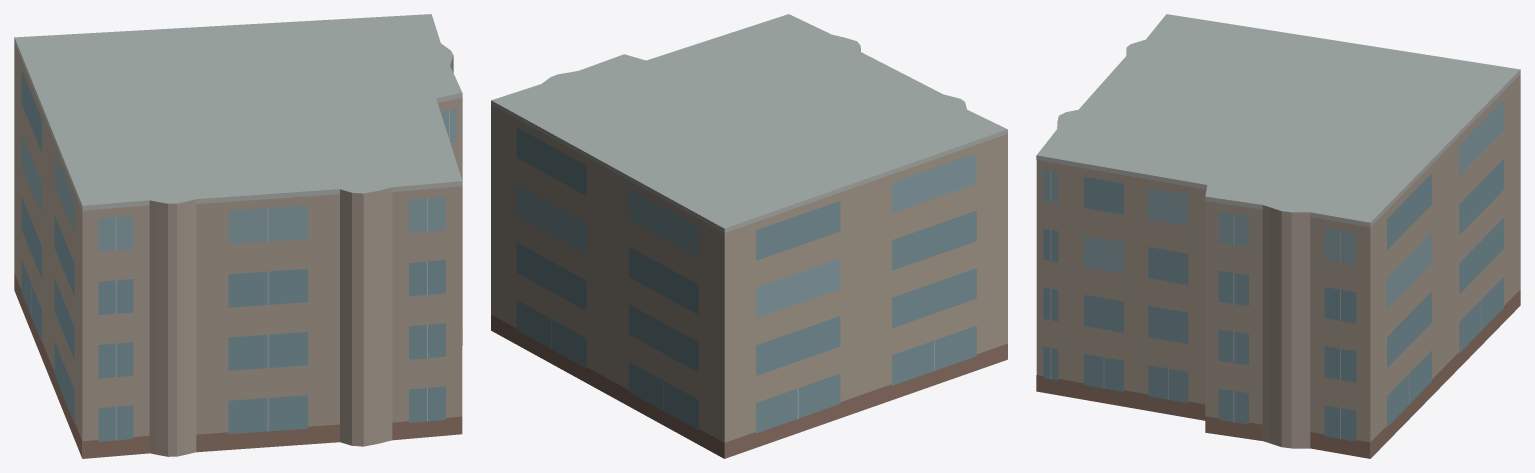
Rendered from survey-upis-32808010.glb.
3 renders of one model, left to right at view 1: azimuth 30°, elevation 25°; view 2: azimuth 150°, elevation 25°; view 3: azimuth 270°, elevation 25°, orthographic. The views are drawn at different scales.
Parts seen in each view (by area): view 1: survey-upis-32808010.tmp; view 2: survey-upis-32808010.tmp; view 3: survey-upis-32808010.tmp.
Part boxes in pixels (box(x1,y1,x2,y2)): survey-upis-32808010.tmp: box(14, 14, 462, 458); survey-upis-32808010.tmp: box(491, 14, 1007, 458); survey-upis-32808010.tmp: box(1036, 14, 1520, 458).
Bounding box in the file's own units: 23.71 × 12.5 × 23.23.
